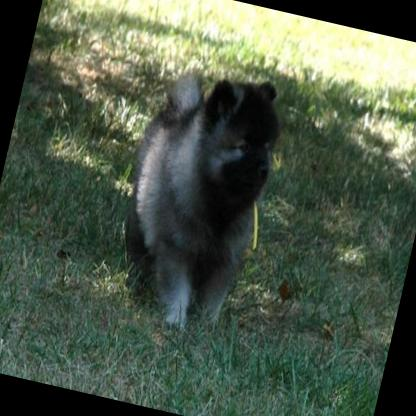keeshond: (95, 50, 288, 344)
